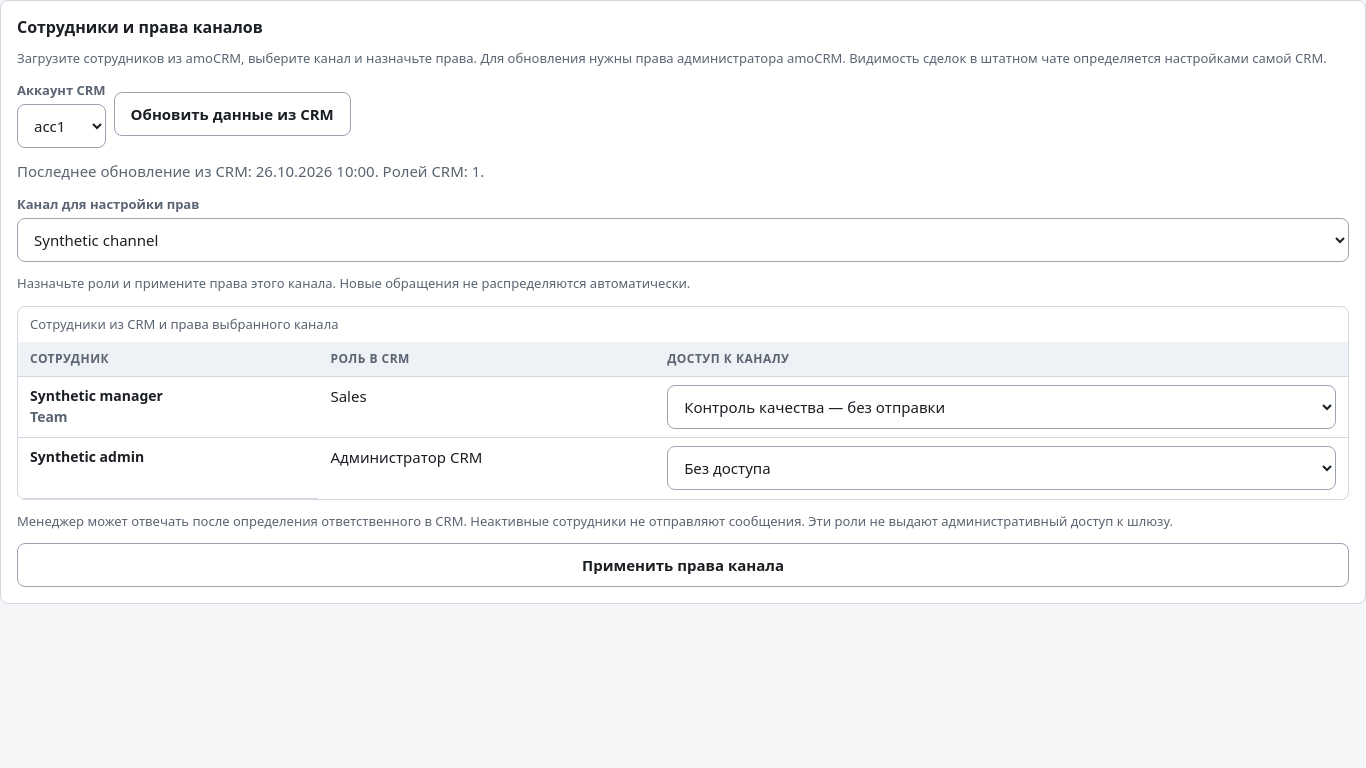
Test: сотрудники из CRM и права канала › сохраняет выбранные роли с версией канала, без смены ответственных или CRM-ролей
Select "Руководитель — ответы всем клиентам" in the dropdown named "Доступ к каналу: Synthetic manager (11)" at coordinates (1002, 407), box top-left (667, 385), bottom-right (1336, 429)
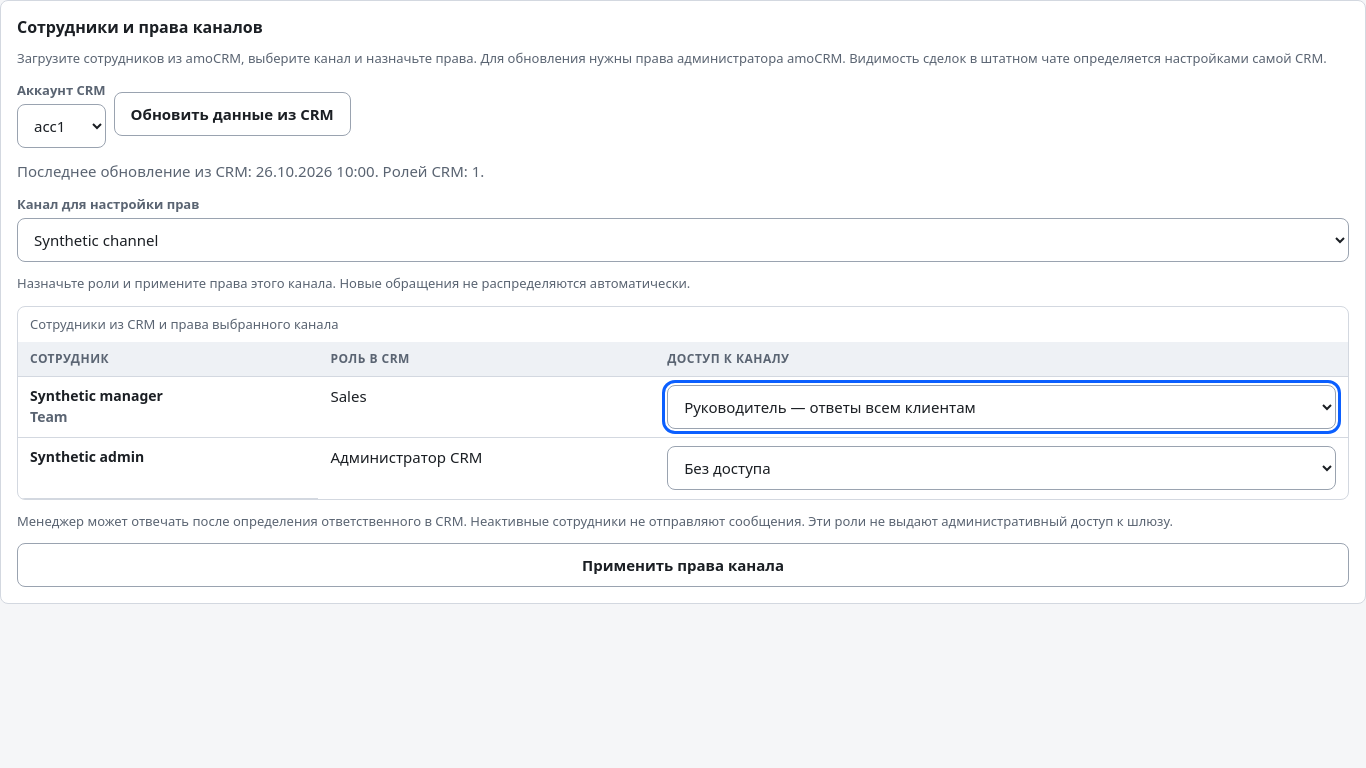
Click the button "Применить права канала" at coordinates (683, 565), box top-left (17, 543), bottom-right (1349, 587)
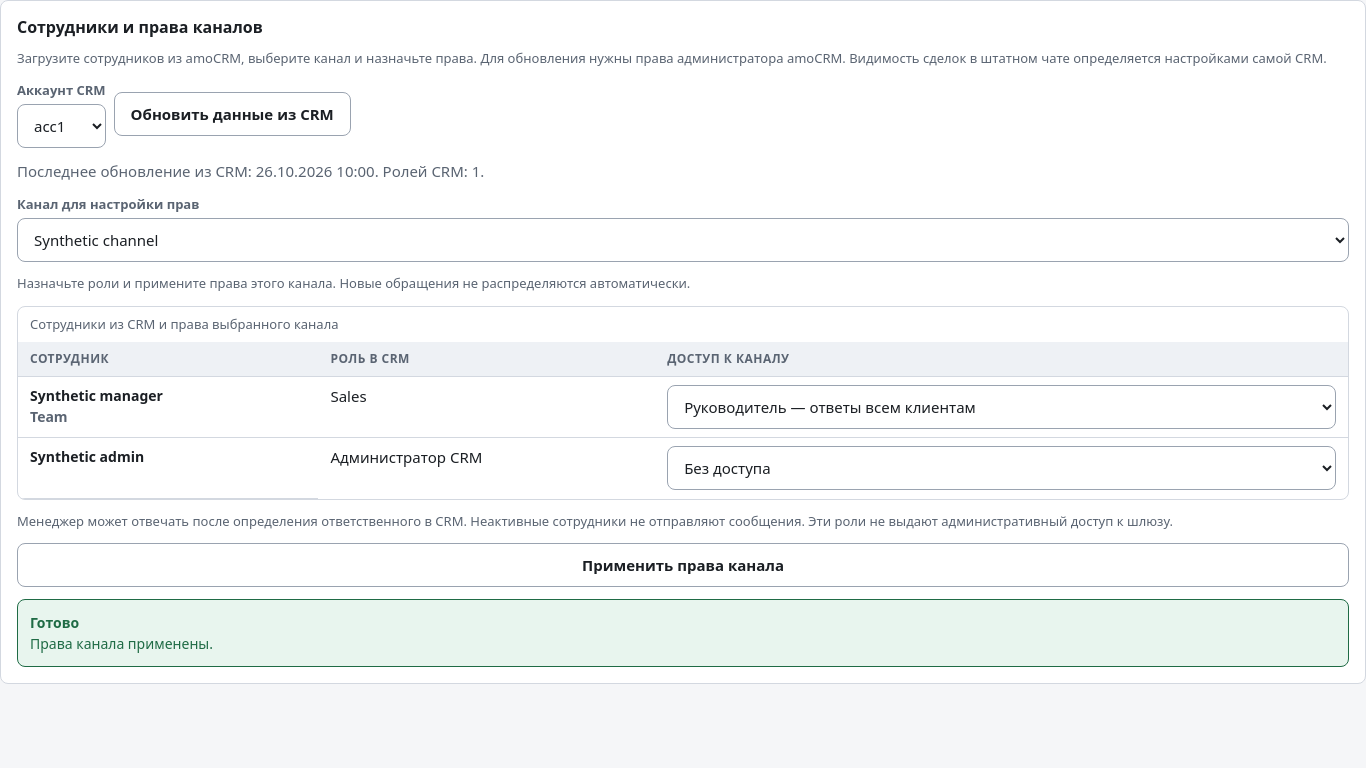
Check: the text "Права канала применены." is shown, box top-left (30, 634), bottom-right (213, 653)
